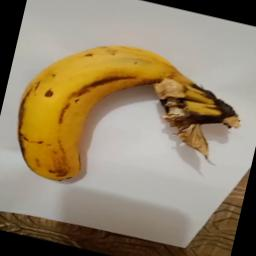Banana Unripe: (6, 21, 254, 216)
